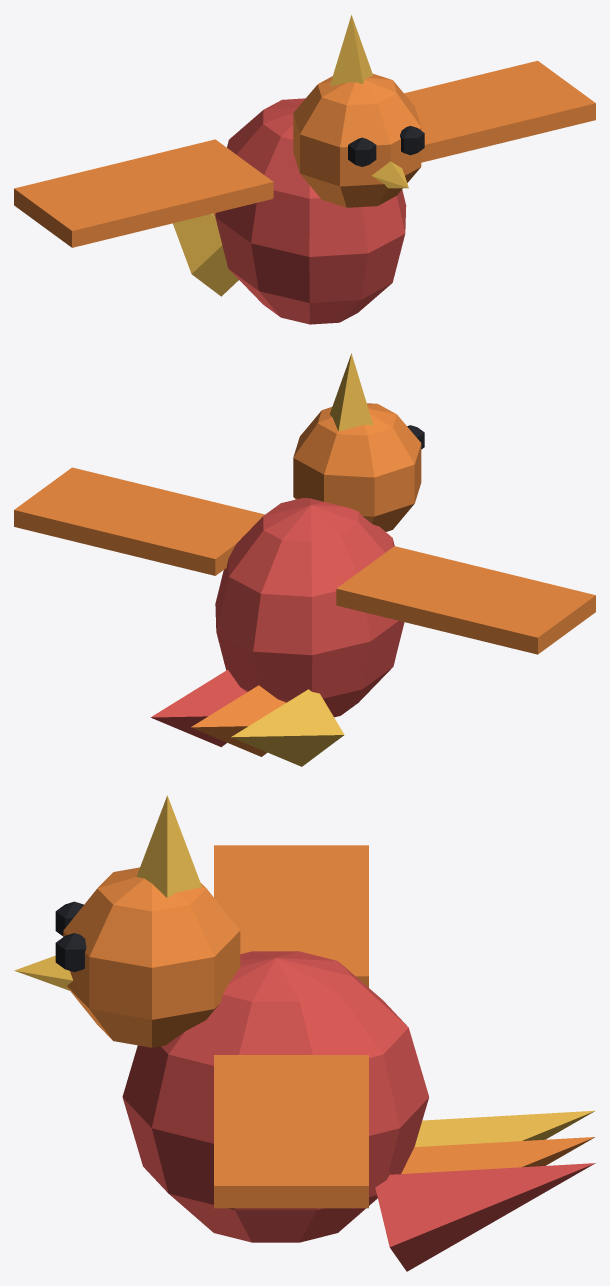
Rendered from mdl_mascota_fenix.fbx.
3 renders of one model, top to bottom at view 1: azimuth 30°, elevation 25°; view 2: azimuth 150°, elevation 25°; view 3: azimuth 270°, elevation 25°, orthographic. The views are drawn at different scales.
Parts seen in each view (by area): view 1: mdl_mascota_fenix; view 2: mdl_mascota_fenix; view 3: mdl_mascota_fenix.
Boxes of the visible parts, x1=… form: mdl_mascota_fenix: x1=14, y1=15, x2=595, y2=324; mdl_mascota_fenix: x1=14, y1=353, x2=595, y2=766; mdl_mascota_fenix: x1=14, y1=795, x2=595, y2=1271.
Size of the model in its own units: 260 by 160 by 188.
